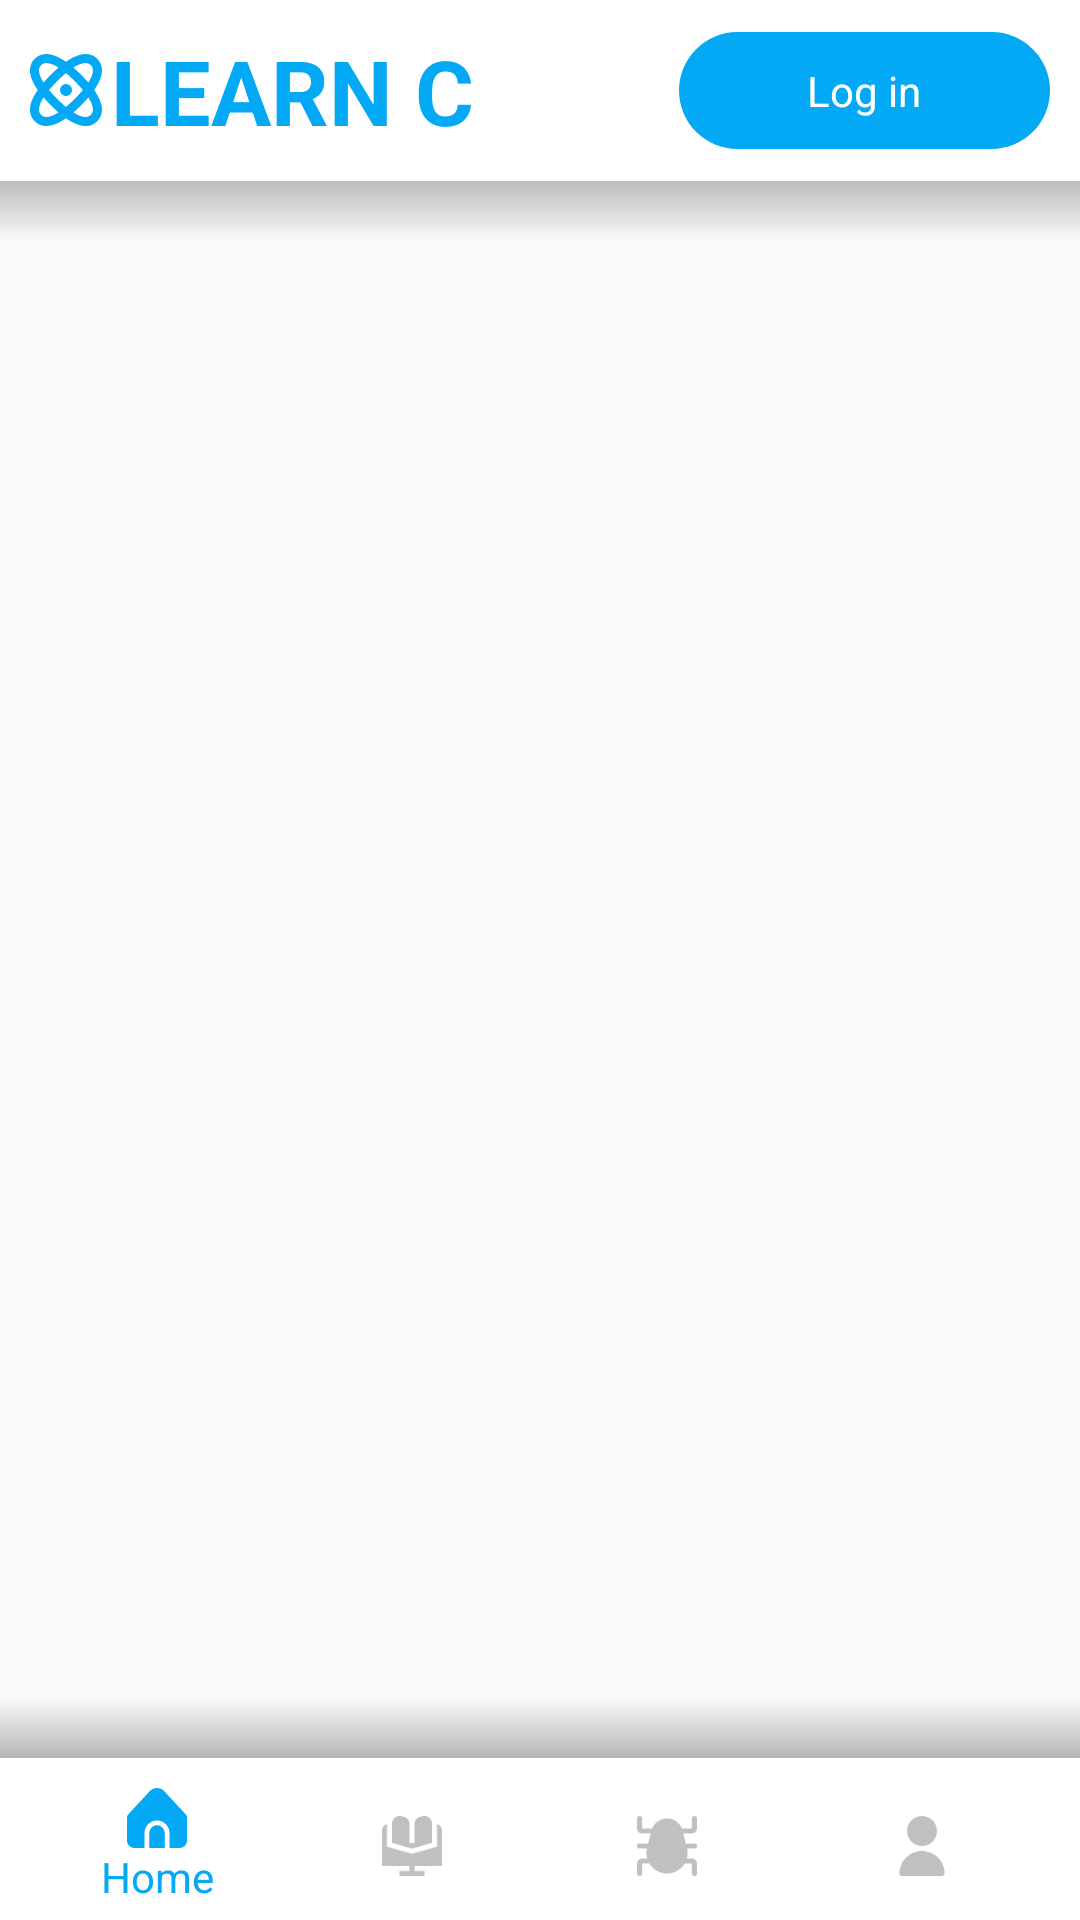

Screen size 1080px x 1920px. Icon name, then its center in pixels as (x=x, y=y):
lesson: (x=412, y=1846)
user: (x=922, y=1846)
